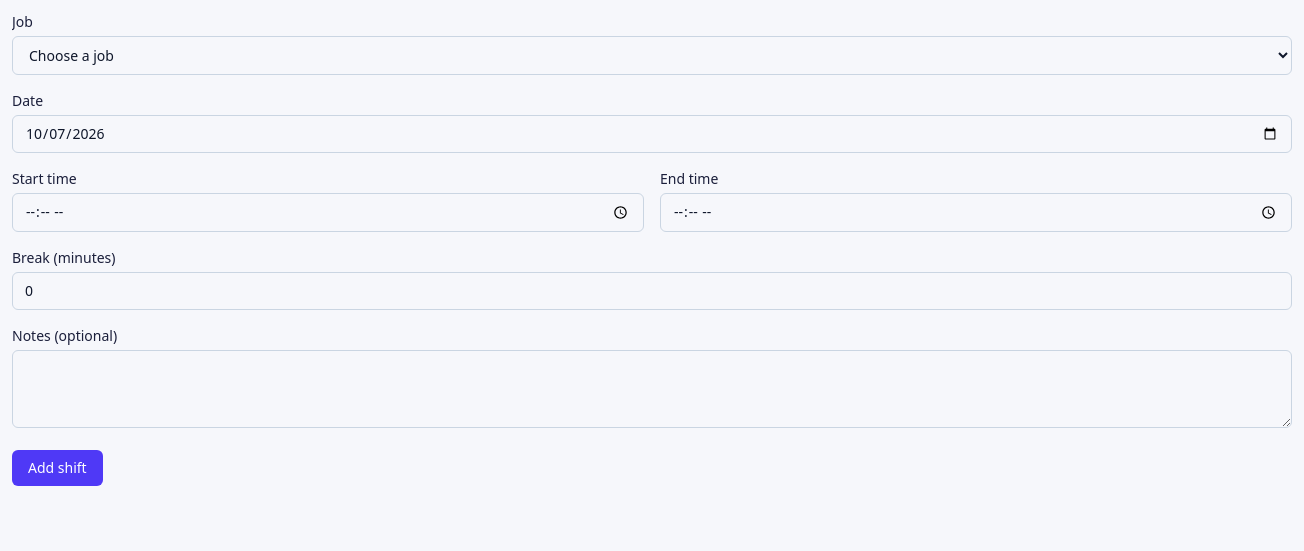
Scenario: ShiftForm › shows what is missing and does not submit an incomplete form
The image size is (1304, 551).
Click the button "Add shift" at [57, 468], box [12,450,103,486]
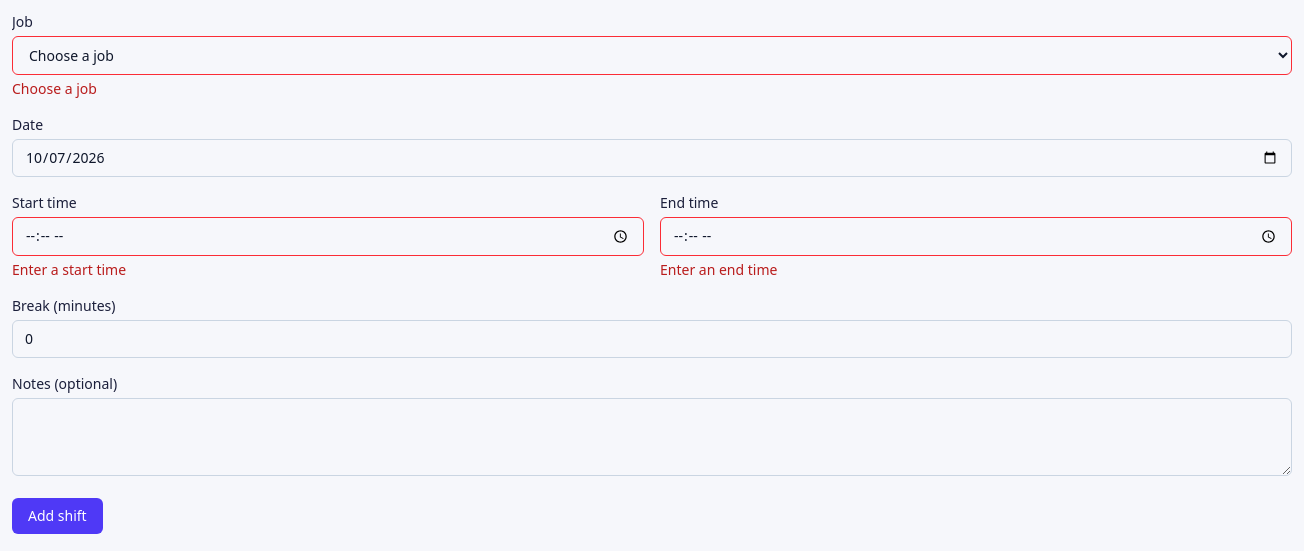
Check: the messages read "Choose a job", "Enter a start time", "Enter an end time", in this order, box [12,79,97,98]; [12,260,126,279]; [660,260,777,279]
